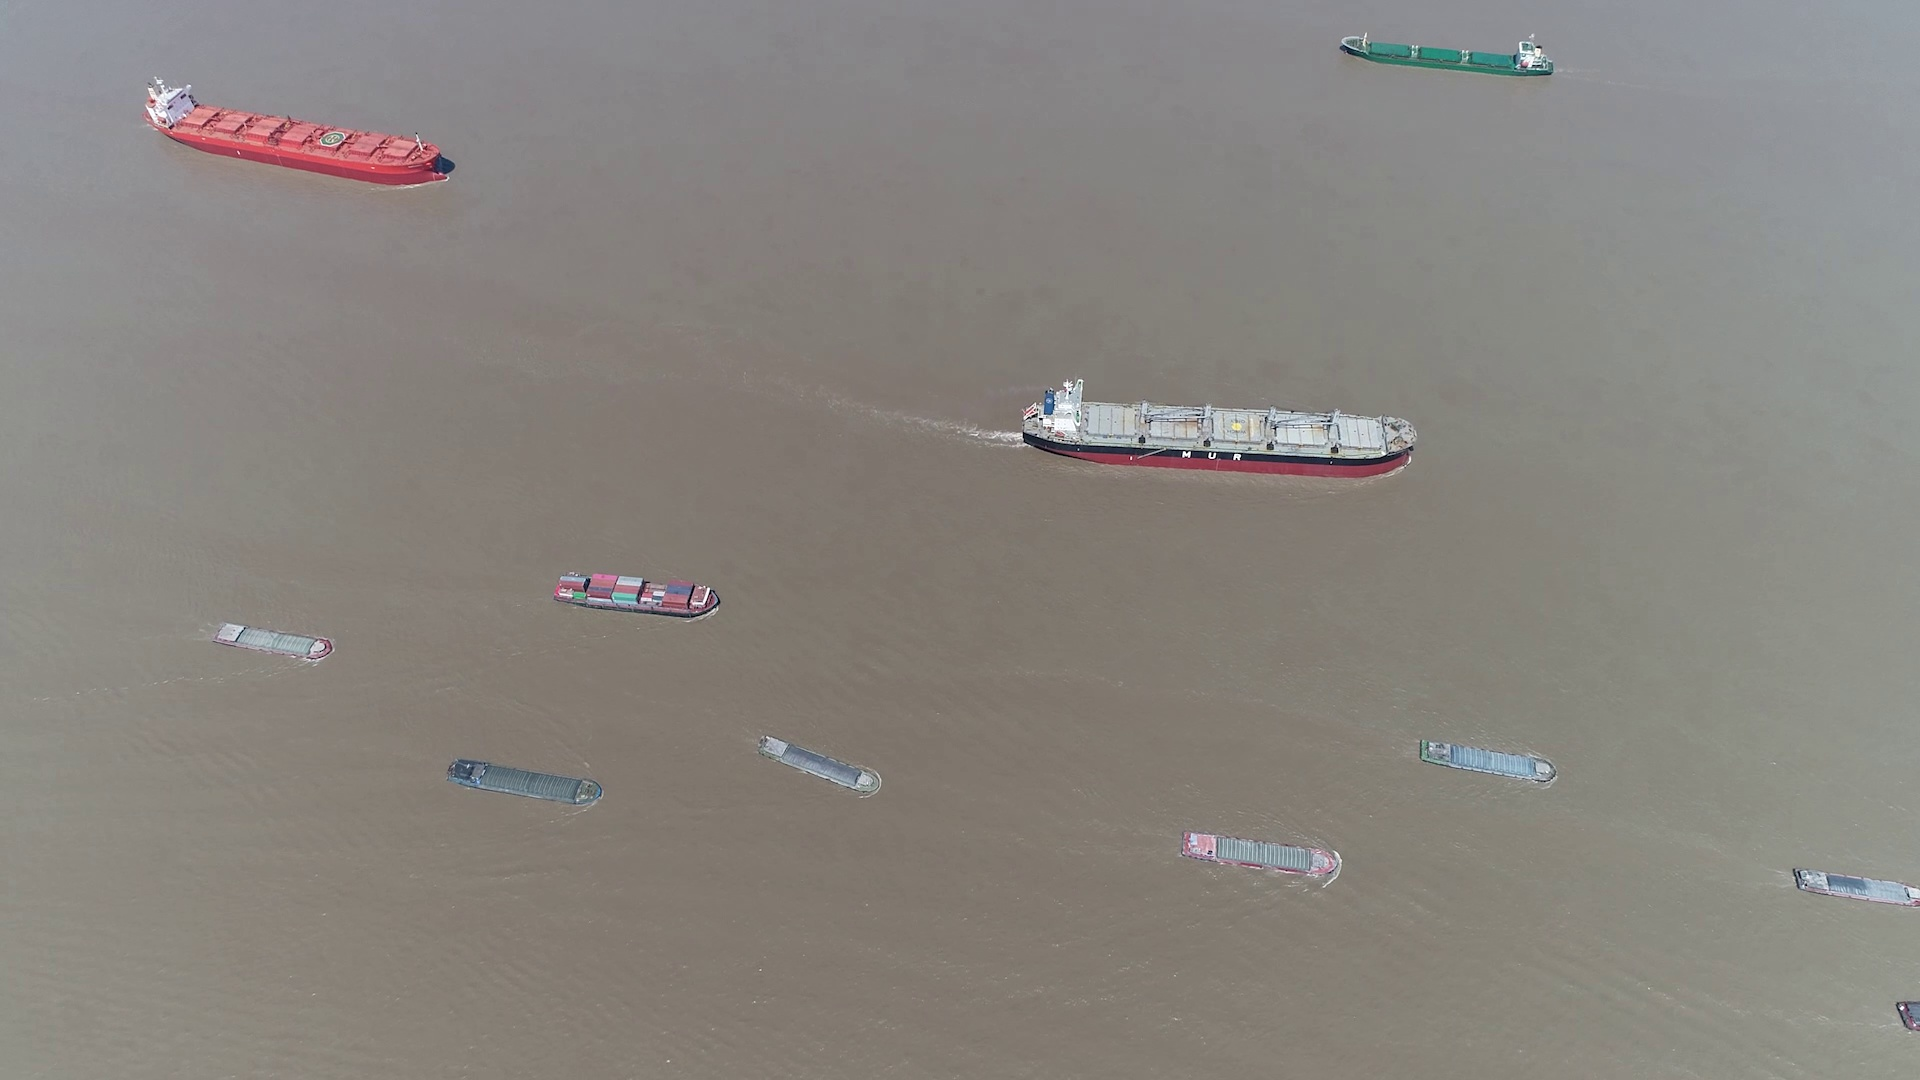ship: (1025, 381, 1419, 479), (146, 73, 450, 182), (1338, 33, 1555, 79), (448, 760, 605, 808), (1182, 832, 1341, 878), (761, 736, 885, 795), (556, 574, 717, 618), (1419, 740, 1557, 785), (1789, 866, 1919, 909), (215, 621, 334, 659), (1896, 1004, 1919, 1035)
